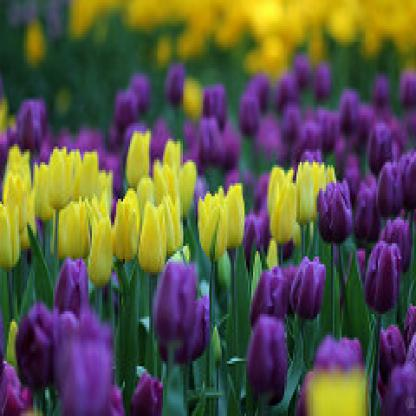TULIP: (13, 85, 369, 318)
